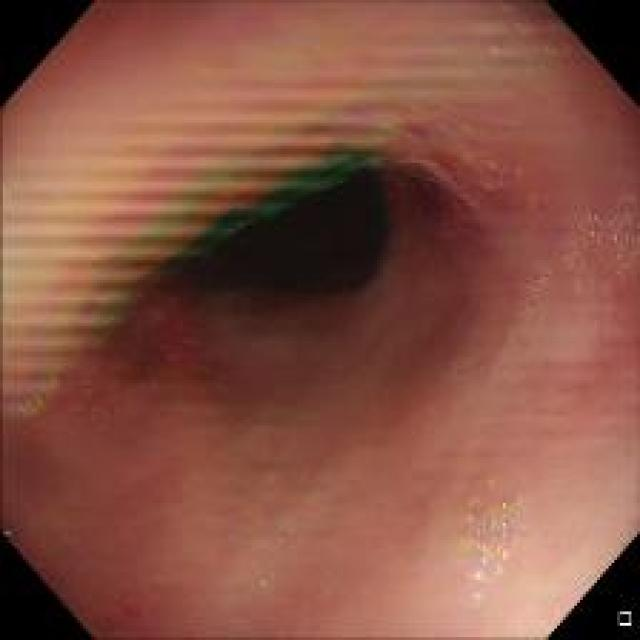bubbles: (464, 480, 531, 596), (558, 202, 632, 284), (518, 264, 552, 319)
color misalignment: (46, 96, 509, 350), (476, 486, 515, 585), (589, 211, 634, 245), (16, 392, 58, 416), (258, 566, 281, 589)
contrast: (150, 152, 392, 311)
